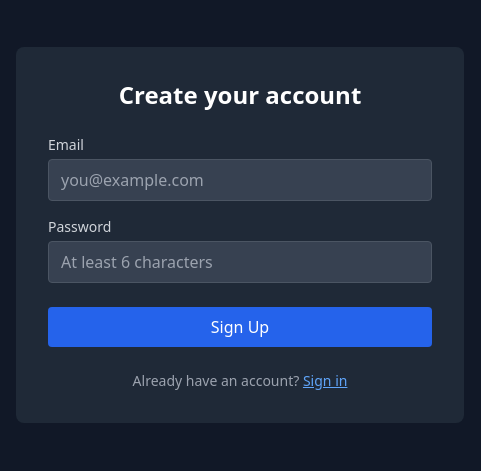
Test: SignUpPage › displays Auth_Service error messages
The width and height of the screenshot is (481, 471).
In the field labelled "Email": (240, 180) [48,159,432,201], type "test@example.com"
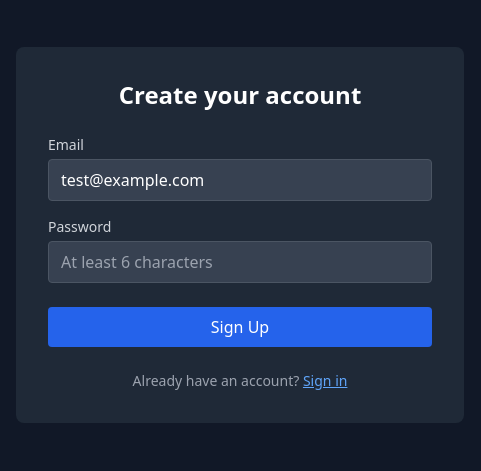
In the password field labelled "Password": (240, 262) [48,241,432,283], type "password123"
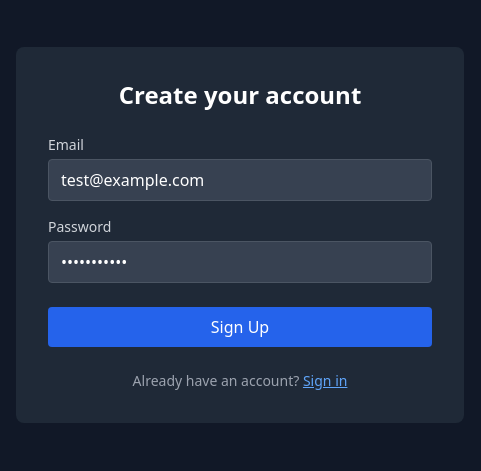
Click the button "Sign Up": (240, 327) [48,307,432,347]
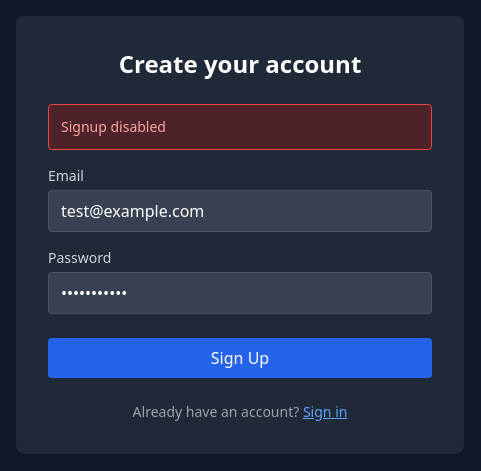
Now the text "Signup disabled" is shown, box [48,104,432,150]
